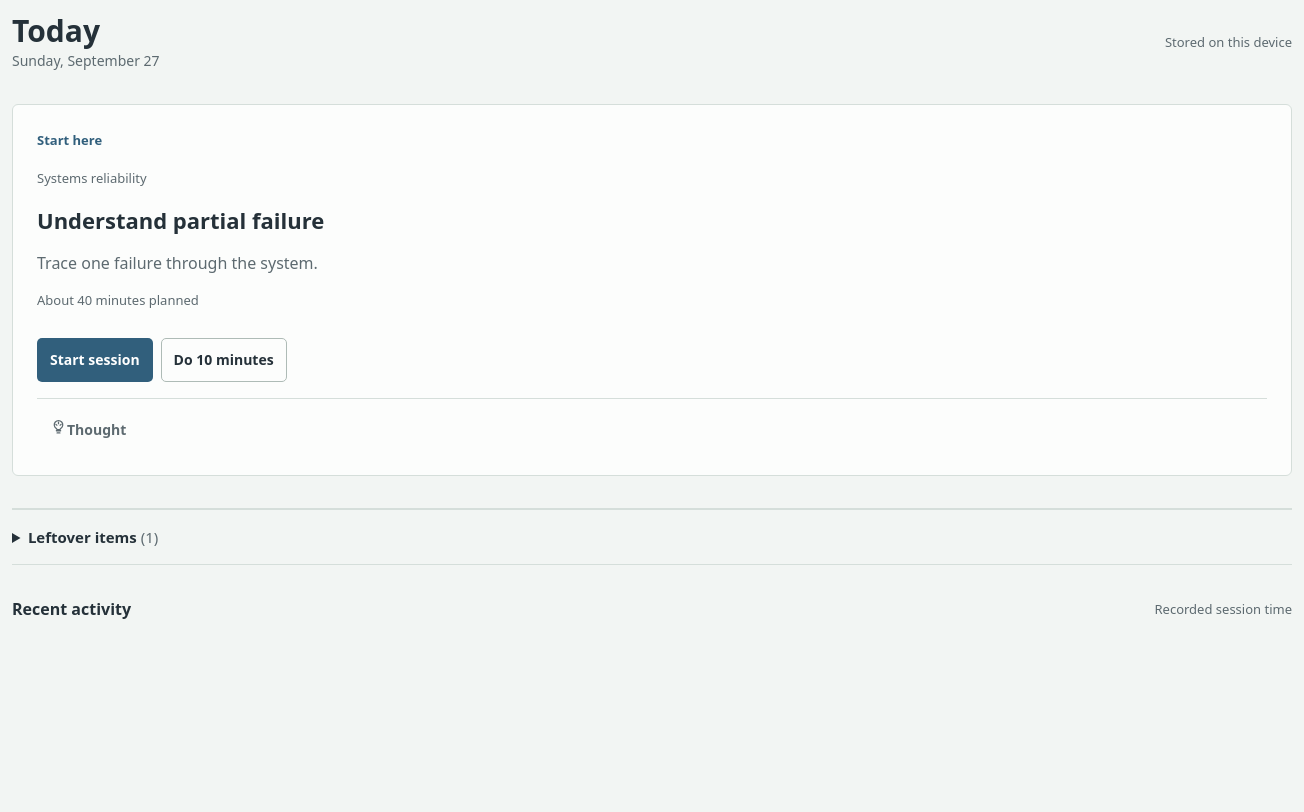
Test: Today › shows an earlier untouched item in Leftover items and can start it
Click the heading "Leftover items (1)". click: (93, 537)
box: [28,527,158,547]
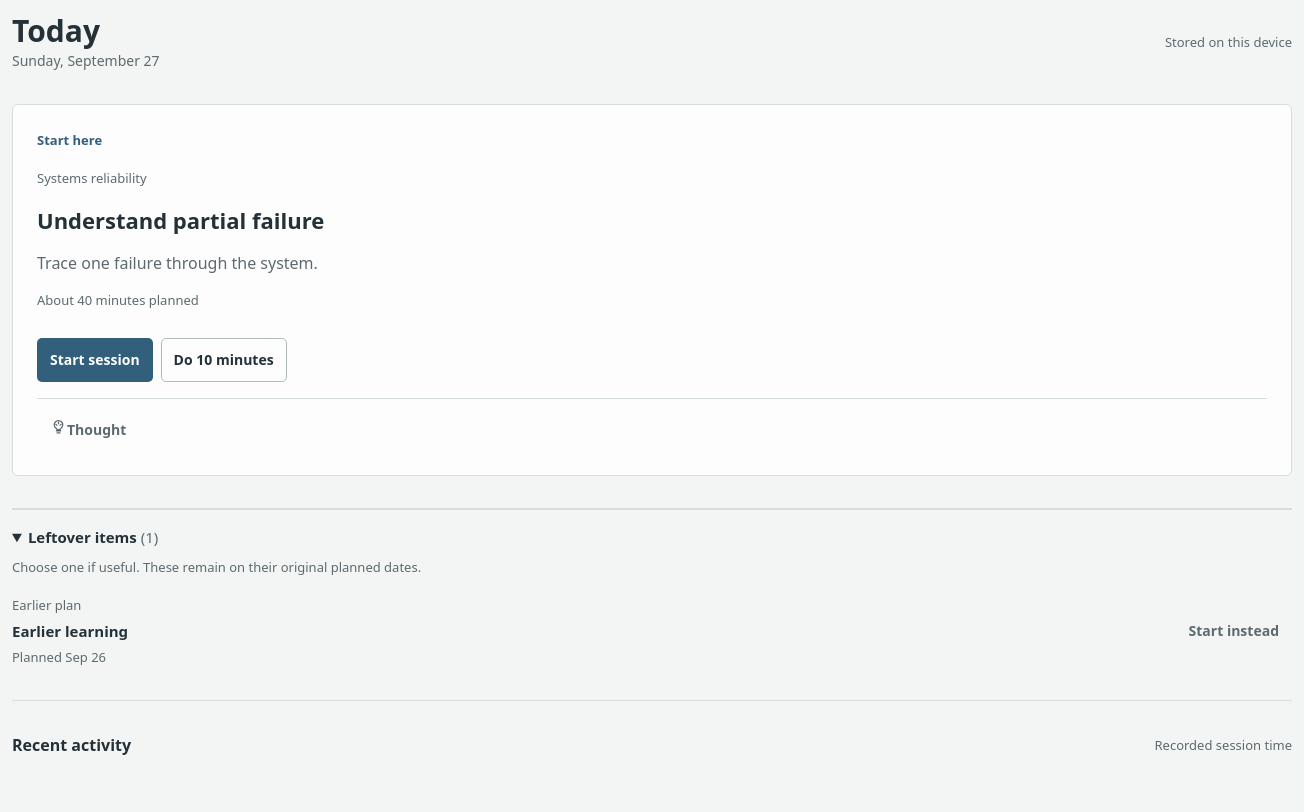
Result: the heading "Earlier learning" is shown at [12,620,128,642]
Click the button "Start instead". click: (1234, 631)
box: [1176,609,1292,653]
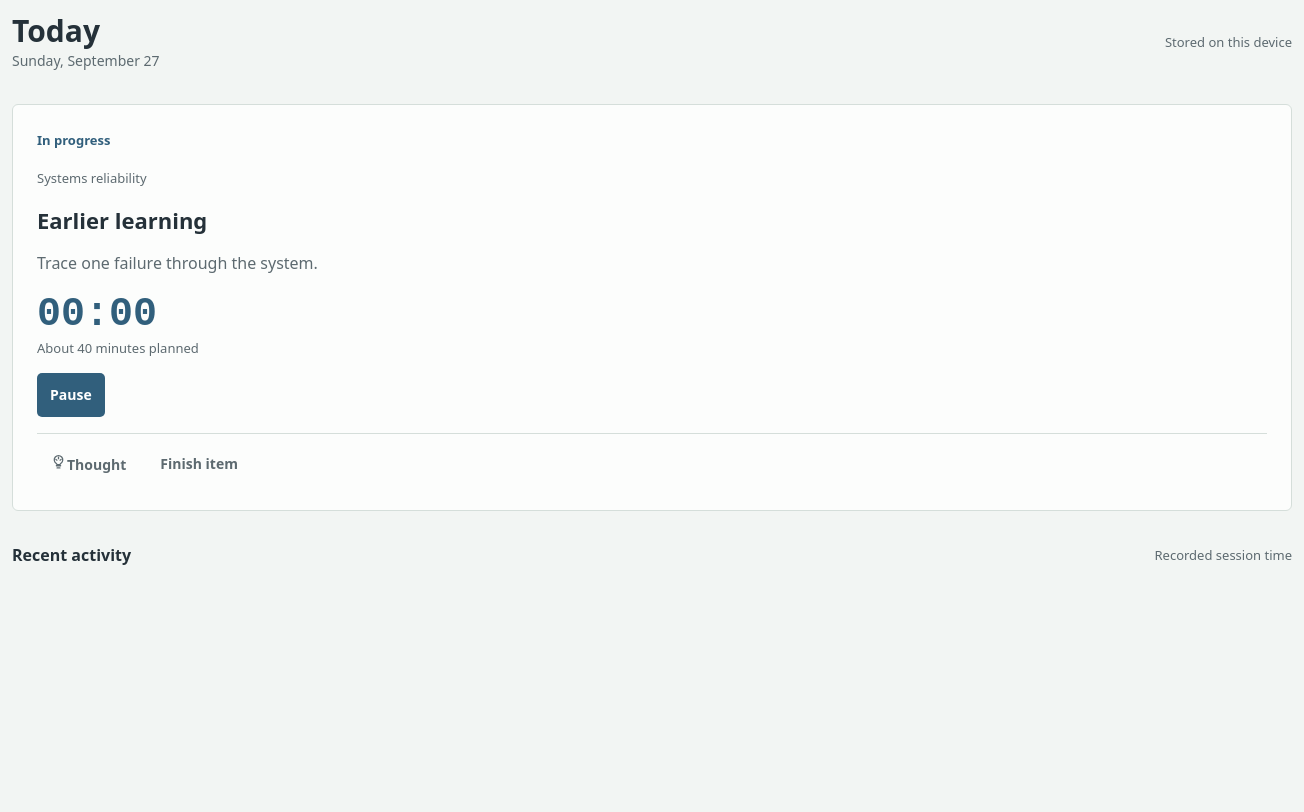
Result: the heading "Earlier learning" is shown at [37,205,207,235]
